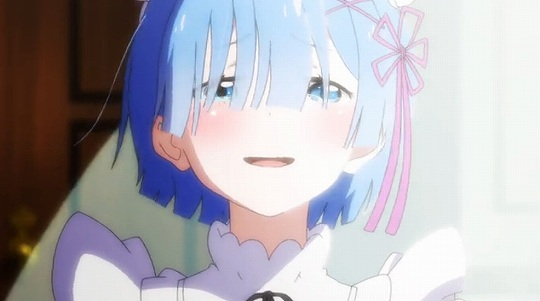rem: (63, 1, 470, 301)
